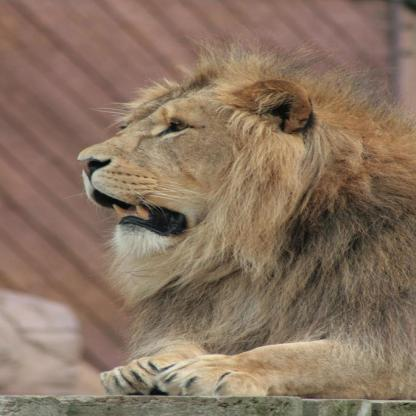lion: (70, 63, 339, 298)
